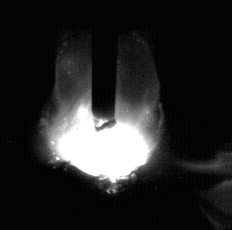arame: (92, 0, 117, 130)
poca: (40, 0, 164, 230)
